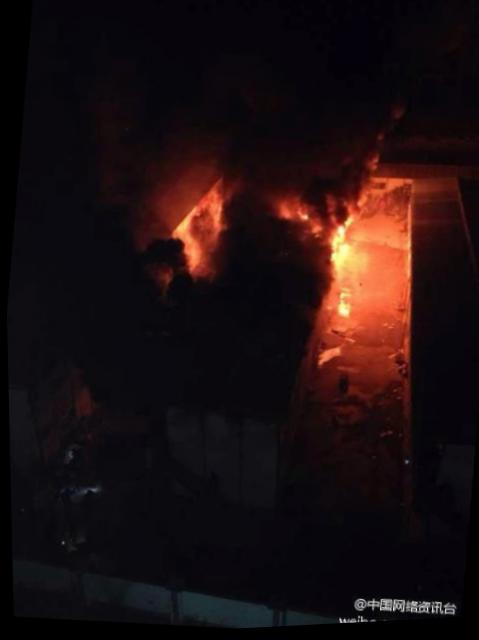fire: (314, 215, 363, 322), (170, 196, 218, 272)
